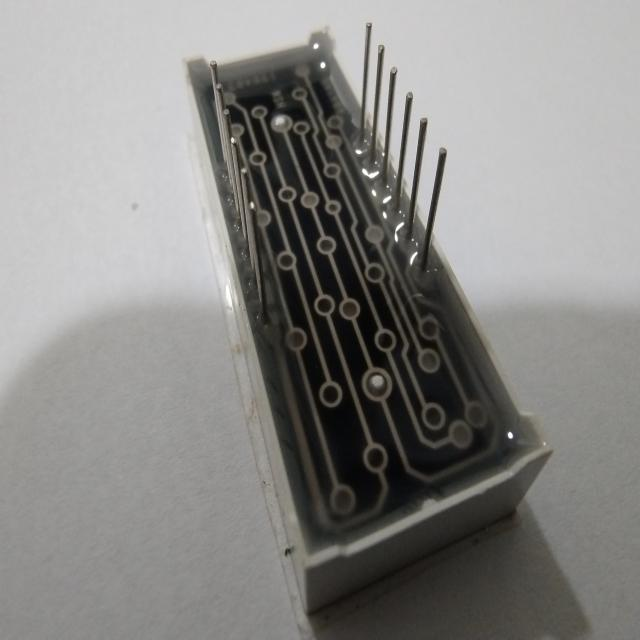7_segments_4_digits: (158, 13, 560, 626)
